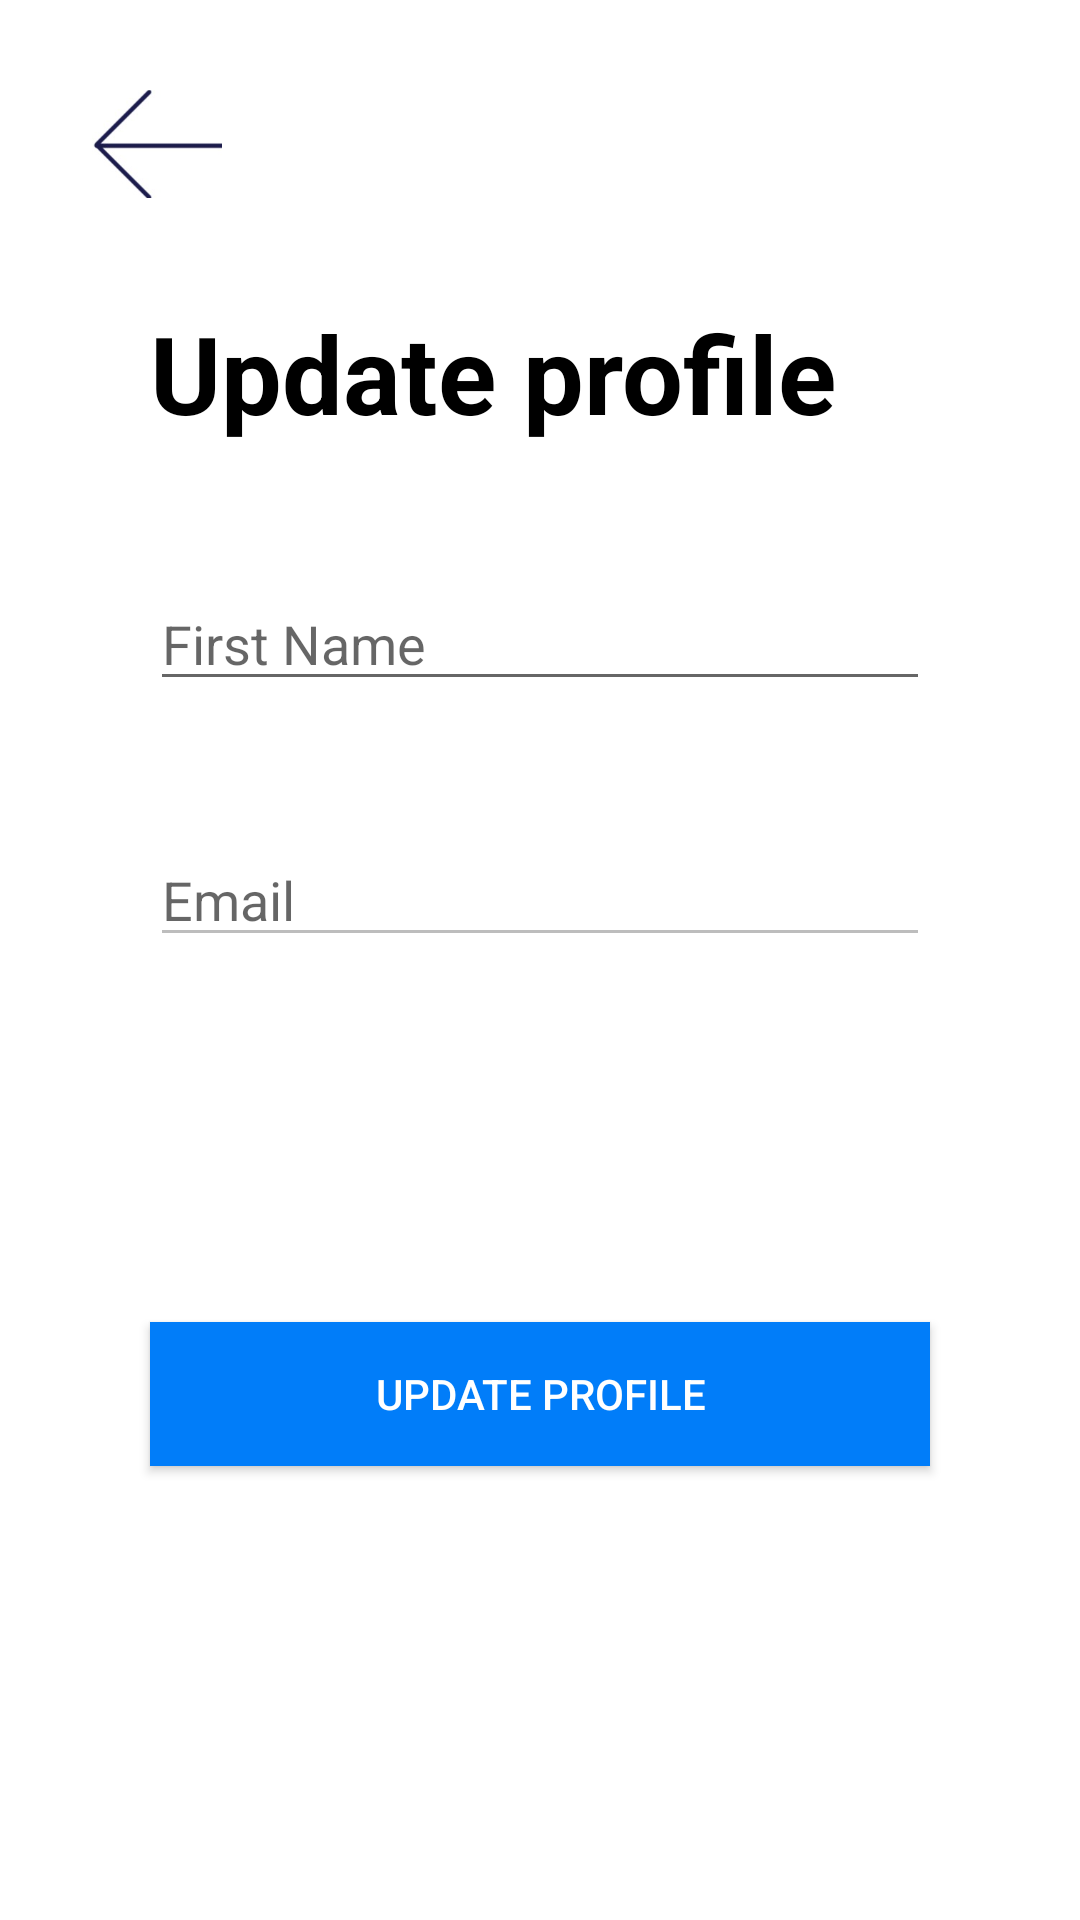

Icon click points for this 1080 x 1920 phone screenshot, format [x,y]:
back: [158,144]
